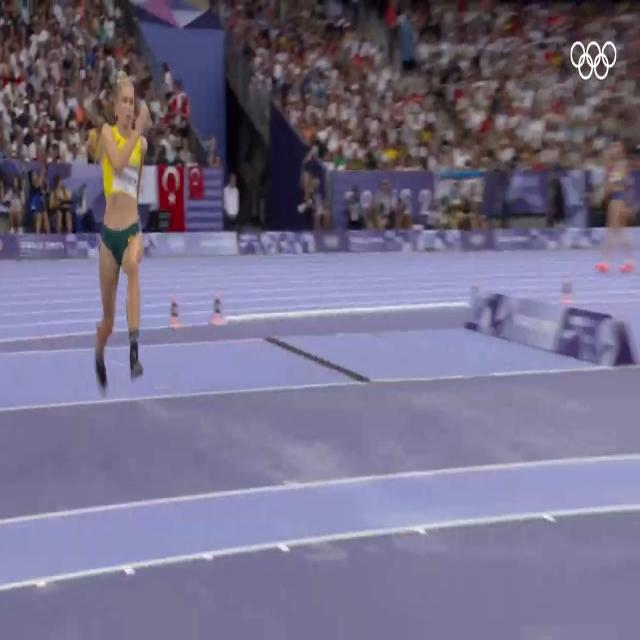run: (90, 70, 154, 401)
